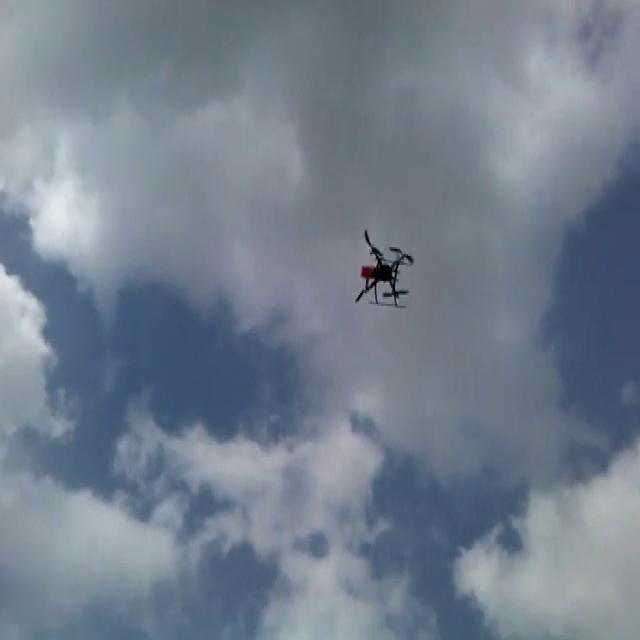drone: (352, 228, 415, 310)
